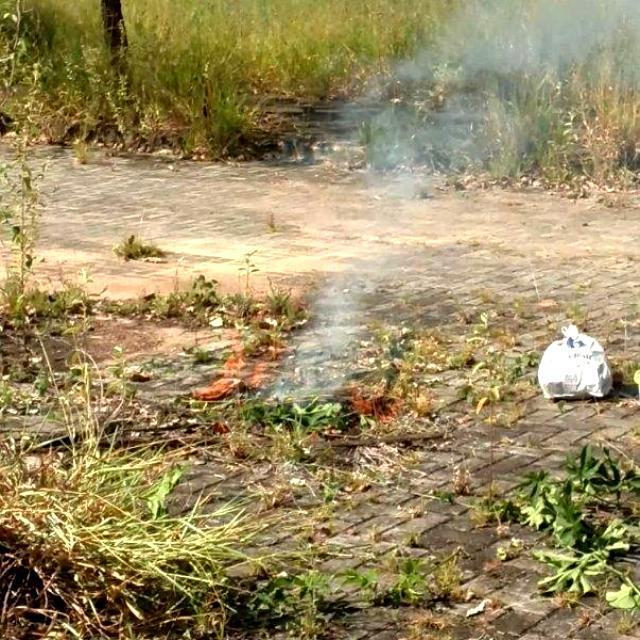Smoke: (302, 4, 538, 357)
